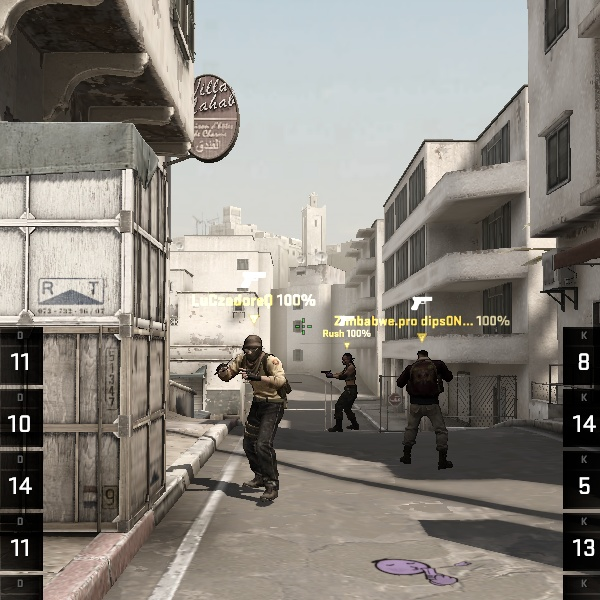t_body: (214, 331, 297, 492), (389, 344, 459, 470), (325, 349, 364, 433)
t_head: (241, 333, 266, 364), (415, 348, 431, 364), (341, 351, 355, 369)
